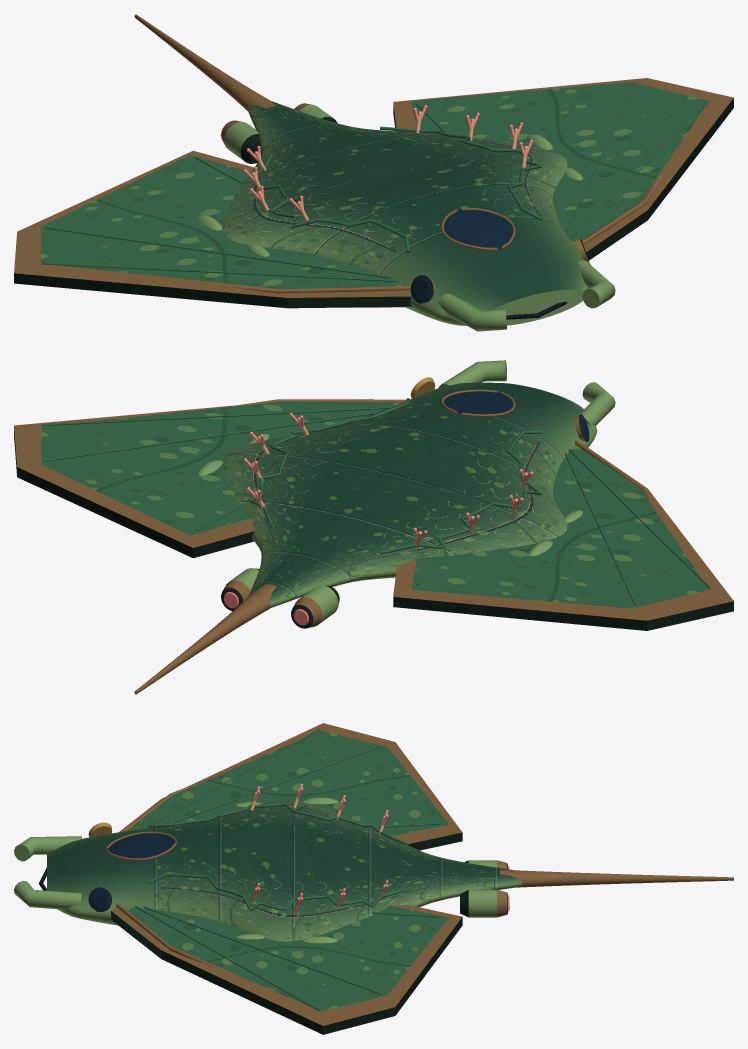
The picture shows the model from 3 angles, top to bottom: view 1: azimuth 30°, elevation 25°; view 2: azimuth 150°, elevation 25°; view 3: azimuth 270°, elevation 25°; orthographic projection. The views are drawn at different scales.
Visible parts, largest first — view 1: manta_ray_hull; view 2: manta_ray_hull; view 3: manta_ray_hull.
Boxes of the visible parts, x1=… form: manta_ray_hull: x1=14, y1=14, x2=733, y2=331; manta_ray_hull: x1=14, y1=360, x2=733, y2=694; manta_ray_hull: x1=14, y1=723, x2=733, y2=1034.
Size of the model in its own units: 81.66 by 9.73 by 82.
1 material, 1 textured.
